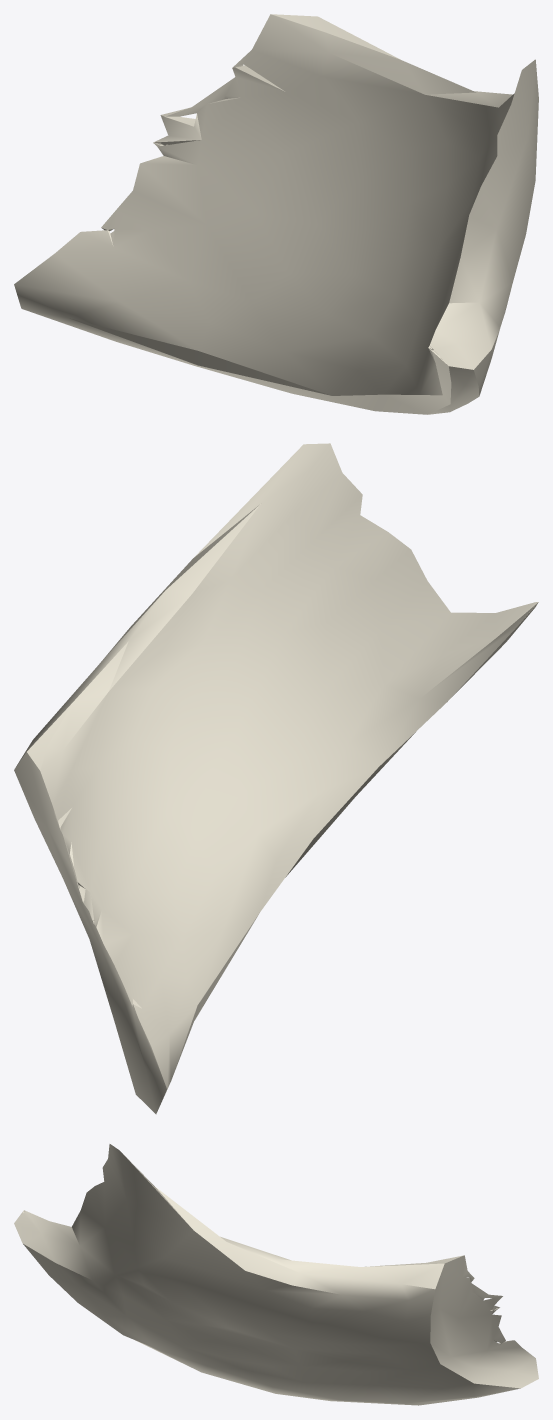
File: fma43519_mm1405m.glb
3 views of the same model, one above another, from view 1: azimuth 30°, elevation 25°; view 2: azimuth 150°, elevation 25°; view 3: azimuth 270°, elevation 25° (orthographic). The views are drawn at different scales.
Parts seen in each view (by area): view 1: FMA43519_MM1405M; view 2: FMA43519_MM1405M; view 3: FMA43519_MM1405M.
Boxes of the visible parts, x1=… form: FMA43519_MM1405M: x1=14, y1=14, x2=538, y2=414; FMA43519_MM1405M: x1=14, y1=443, x2=538, y2=1114; FMA43519_MM1405M: x1=14, y1=1144, x2=538, y2=1405.
Size of the model in its own units: 0.0134 by 0.0214 by 0.0355.
